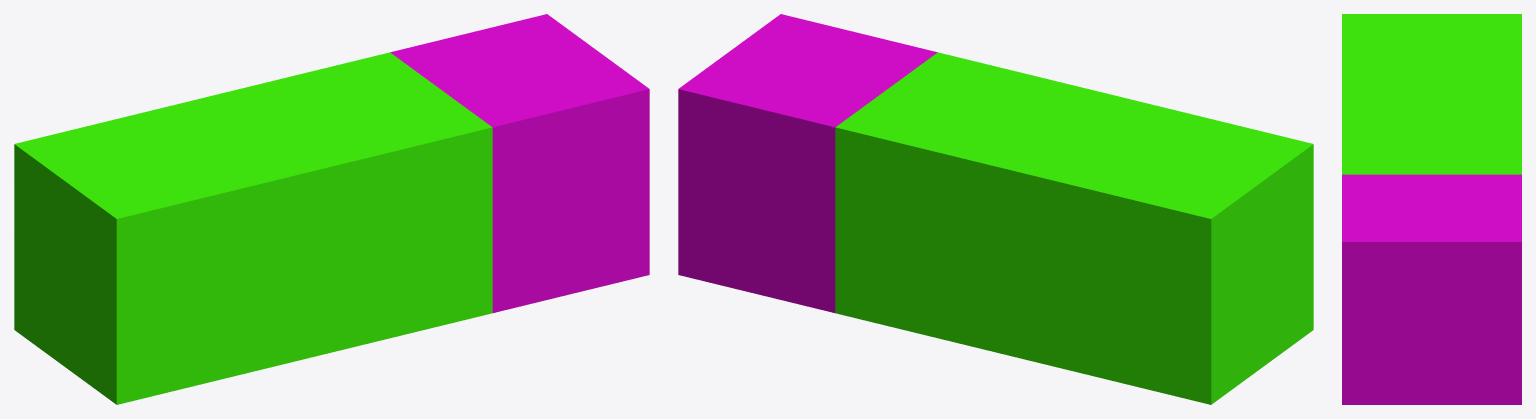
File: RaceCar2.fbx
3 renders of one model, left to right at view 1: azimuth 30°, elevation 25°; view 2: azimuth 150°, elevation 25°; view 3: azimuth 270°, elevation 25°, orthographic. The views are drawn at different scales.
Visible parts, largest first — view 1: Cube; view 2: Cube; view 3: Cube.
Part boxes in pixels (bbox=[...]): Cube: bbox=[14, 14, 649, 404]; Cube: bbox=[678, 14, 1313, 404]; Cube: bbox=[1342, 14, 1521, 404].
Bounding box in the file's own units: 600 × 200 × 200.
